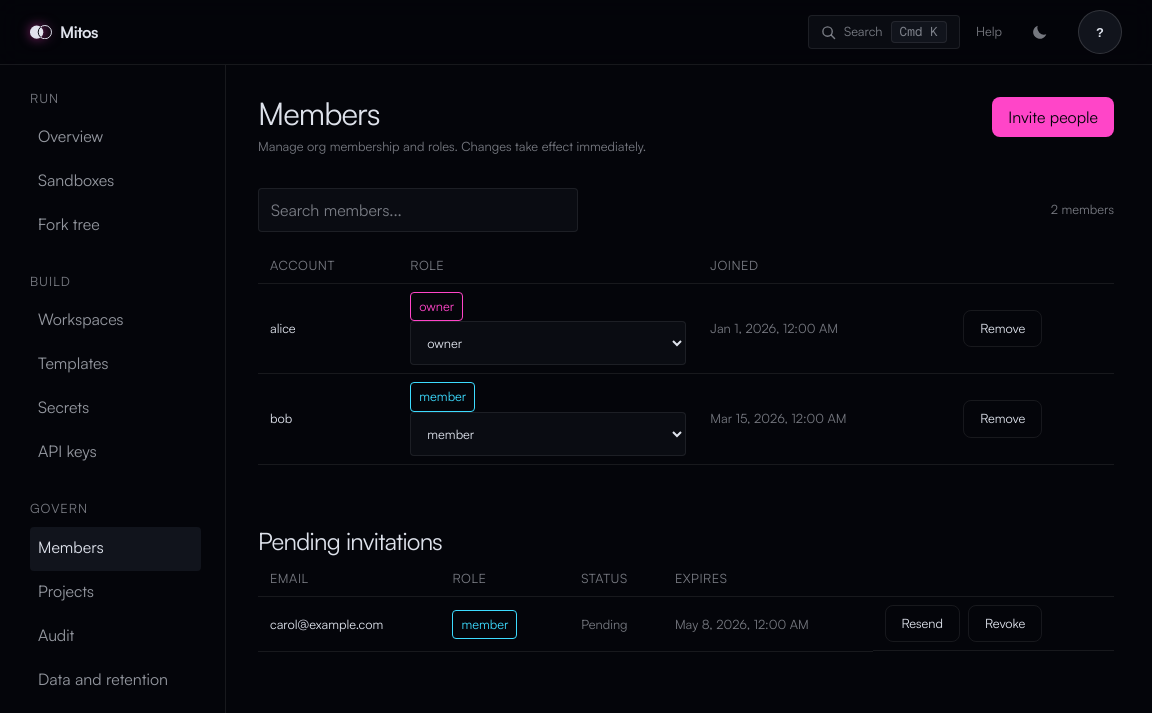
Test case: Members view › revokes a pending invitation and shows a success toast
The width and height of the screenshot is (1152, 713).
Expected: the text "carol@example.com" is shown, [258,597,440,652]
Click the button with aria-label "revoke invitation to carol@example.com".
click(1005, 624)  # box [968,605,1042,642]
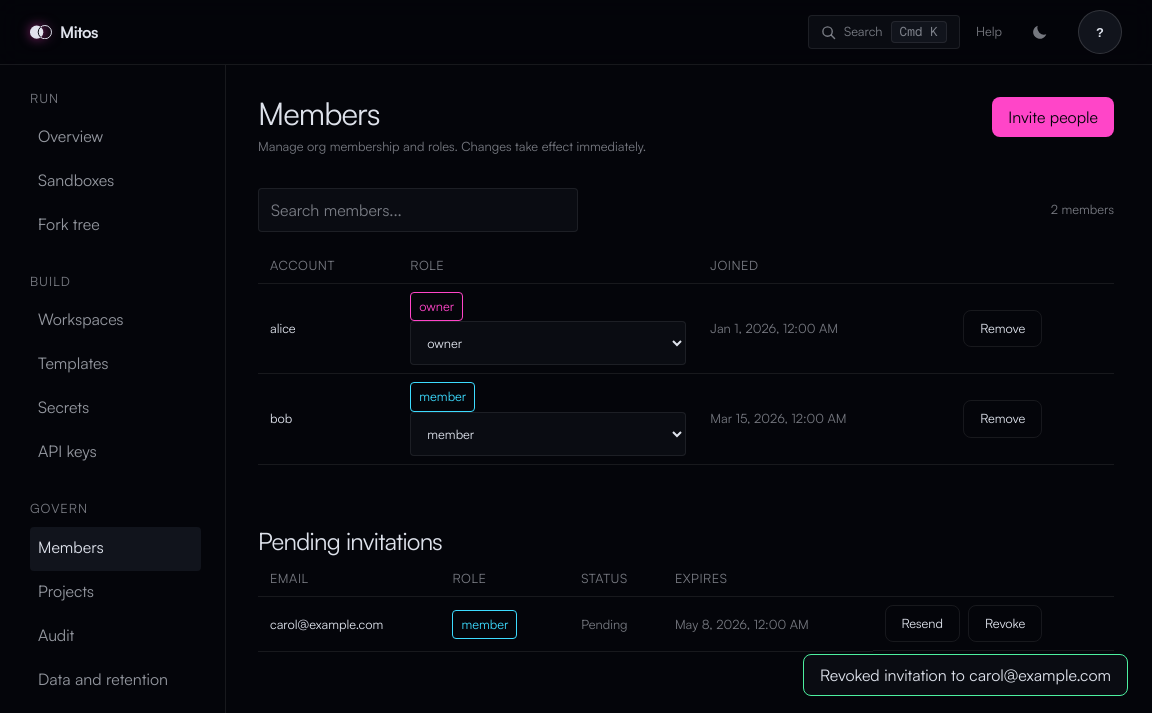
Expected: the message "Revoked invitation to carol@example.com" is shown, [803,654,1128,696]
